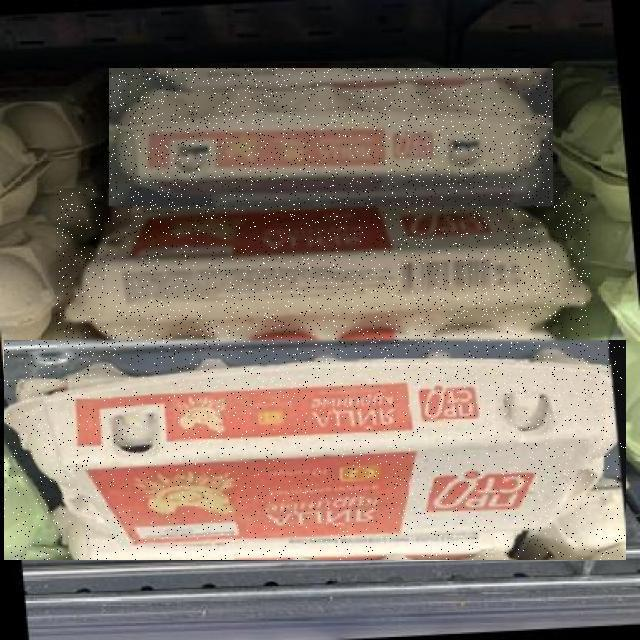Eggs: (5, 340, 627, 560), (56, 188, 590, 358), (109, 68, 553, 206), (535, 86, 632, 342), (4, 97, 94, 339)
